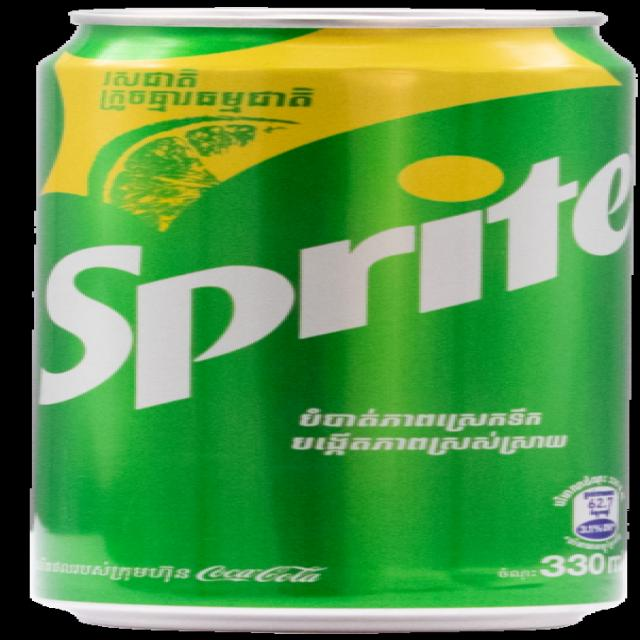sprite: (12, 5, 640, 635)
